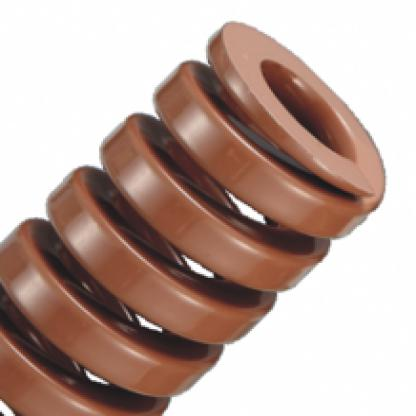FOD: (0, 17, 393, 414)
